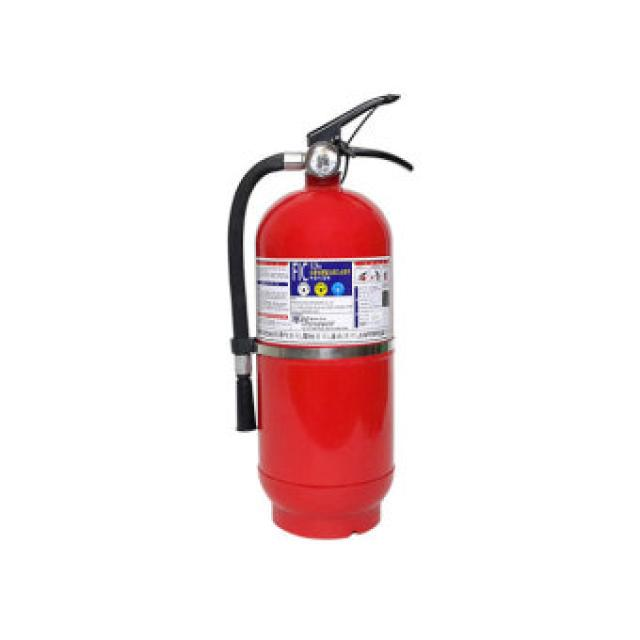pressure gauge: (307, 141, 337, 175)
